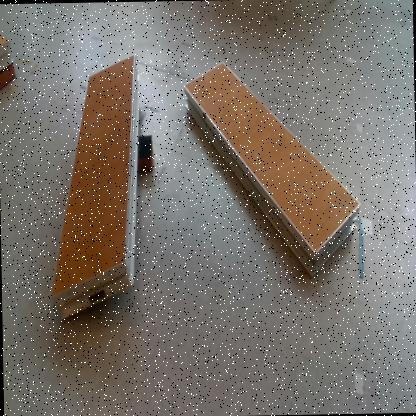Stairs: (184, 64, 362, 280), (51, 58, 142, 321), (1, 34, 14, 72)
